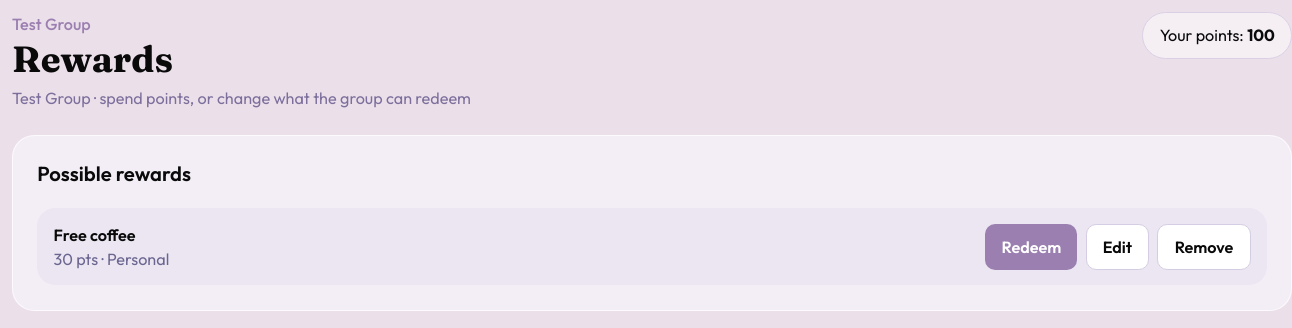
Test: Rewards page › cancels removing a reward
Expected: the text "Free coffee" is shown, [54, 225, 136, 245]
Click the button "Remove". click: (1204, 247)
box: [1158, 224, 1251, 270]
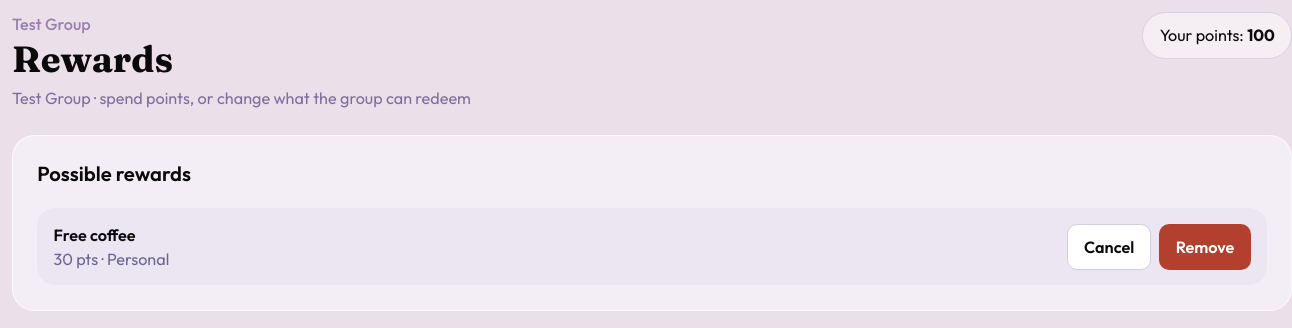
Click the button "Cancel". click: (1109, 247)
box: [1067, 224, 1151, 270]
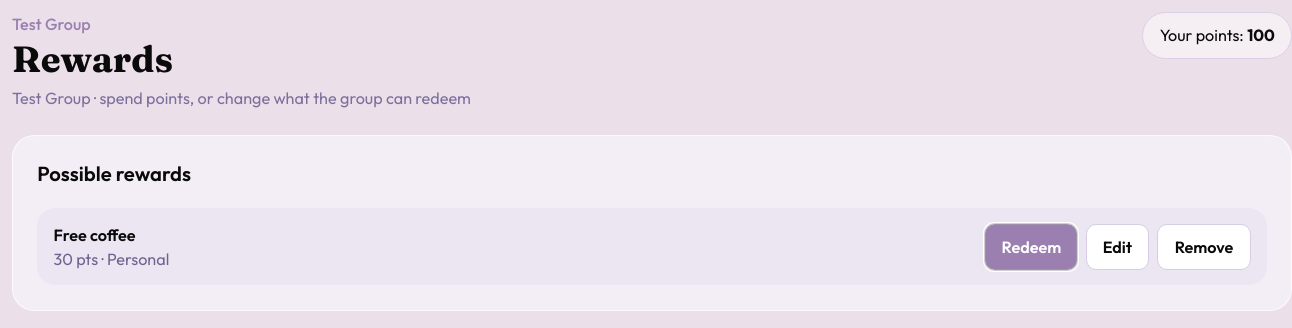
Expected: the text "Free coffee" is shown, [54, 225, 136, 245]
Expected: the button "Redeem" is shown, [985, 224, 1077, 270]
